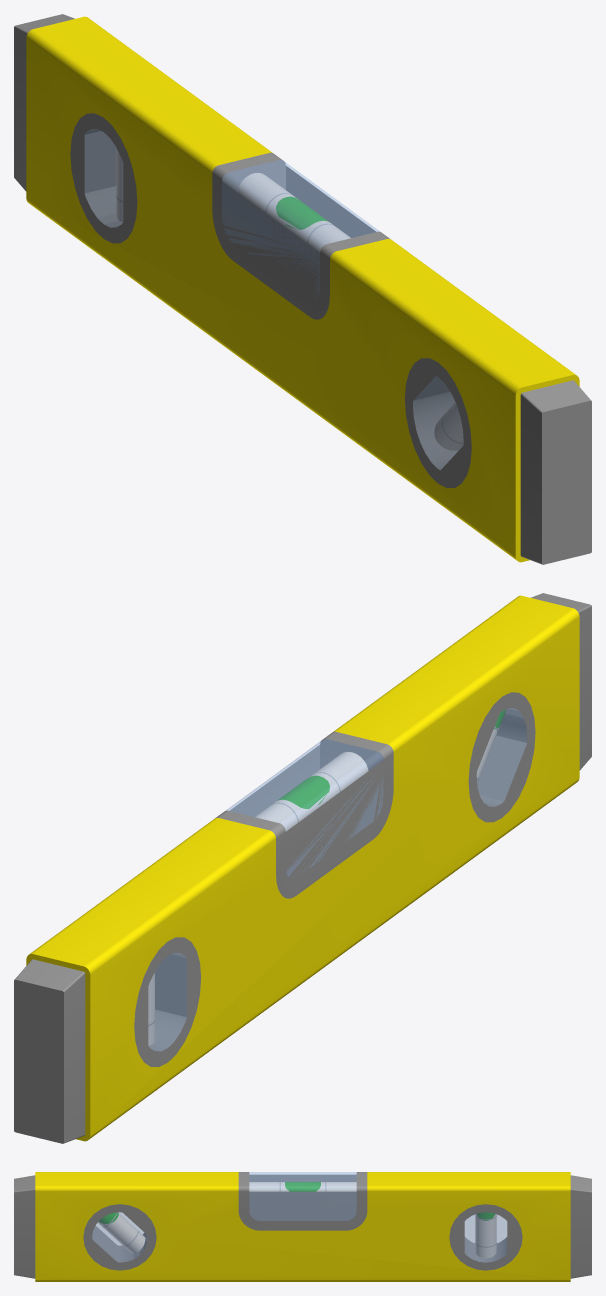
Rendered from Wasserwaage.glb.
3 renders of one model, top to bottom at view 1: azimuth 30°, elevation 25°; view 2: azimuth 150°, elevation 25°; view 3: azimuth 270°, elevation 25°, orthographic. The views are drawn at different scales.
Parts seen in each view (by area): view 1: Group1, Model; view 2: Group1, Model; view 3: Group1, Model.
Boxes of the visible parts, left/top/right/bottom form: Group1: left=14, top=14, right=591, bottom=564; Model: left=84, top=129, right=463, bottom=469; Group1: left=14, top=593, right=591, bottom=1143; Model: left=148, top=708, right=527, bottom=1051; Group1: left=14, top=1172, right=591, bottom=1281; Model: left=92, top=1172, right=507, bottom=1262.
Bounding box in the file's own units: 1.9 × 4.98 × 27.27.
